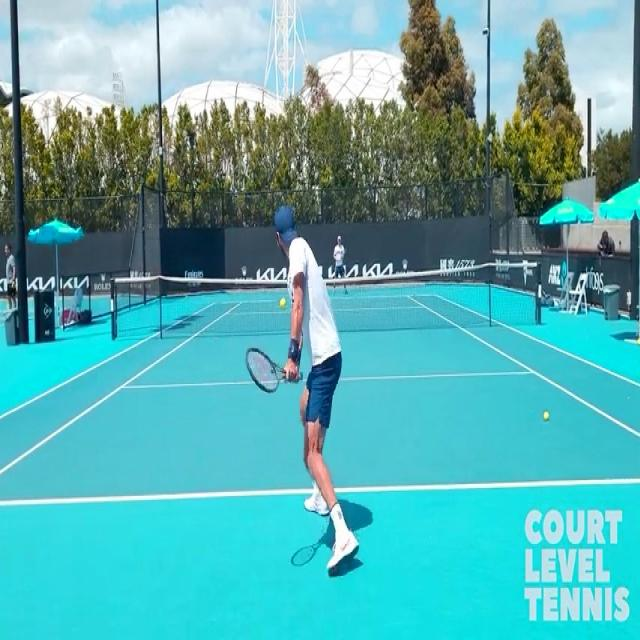backhand-ready: (237, 172, 369, 622)
